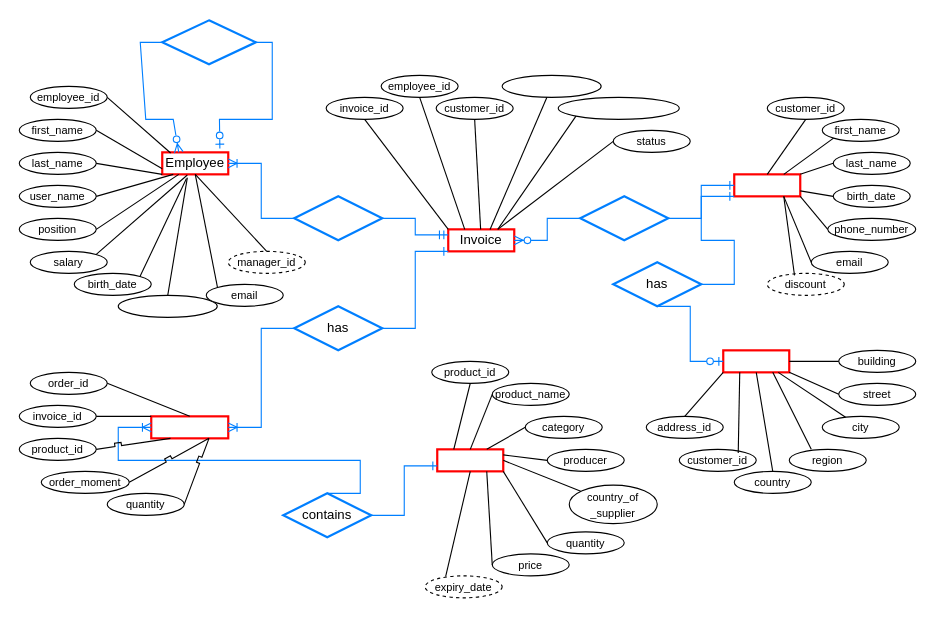
Image size: 935x617. Some labels were removed from this diagram. The shapes that lost their labels are listed below. From the top down, each one's centre as x and y in pixels, then its label:
pixel 208 42: manages
pixel 551 85: payment_method
pixel 618 107: transaction_moment
pixel 767 185: Customer
pixel 338 218: working out
pixel 624 218: by
pixel 167 305: employment_date
pixel 756 361: Address
pixel 189 427: Order
pixel 470 460: Product
